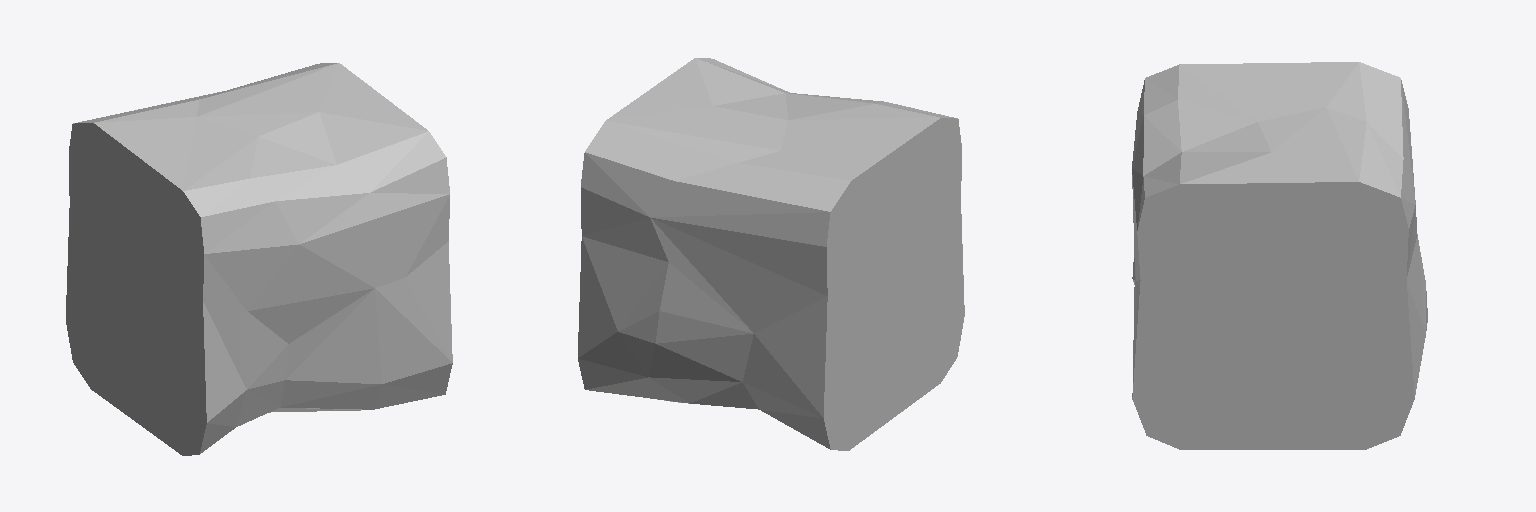
The model's file is Cave_MidSection_A.obj.
The picture shows the model from 3 angles: view 1: azimuth 30°, elevation 25°; view 2: azimuth 150°, elevation 25°; view 3: azimuth 270°, elevation 25°; orthographic projection.
Visible parts, largest first — view 1: Cave_MidSection_A; view 2: Cave_MidSection_A; view 3: Cave_MidSection_A.
Boxes of the visible parts, <box> form: Cave_MidSection_A: <box>66,63,452,455</box>; Cave_MidSection_A: <box>578,58,964,450</box>; Cave_MidSection_A: <box>1132,62,1427,449</box>.
Bounding box in the file's own units: 2 × 2.08 × 2.09.